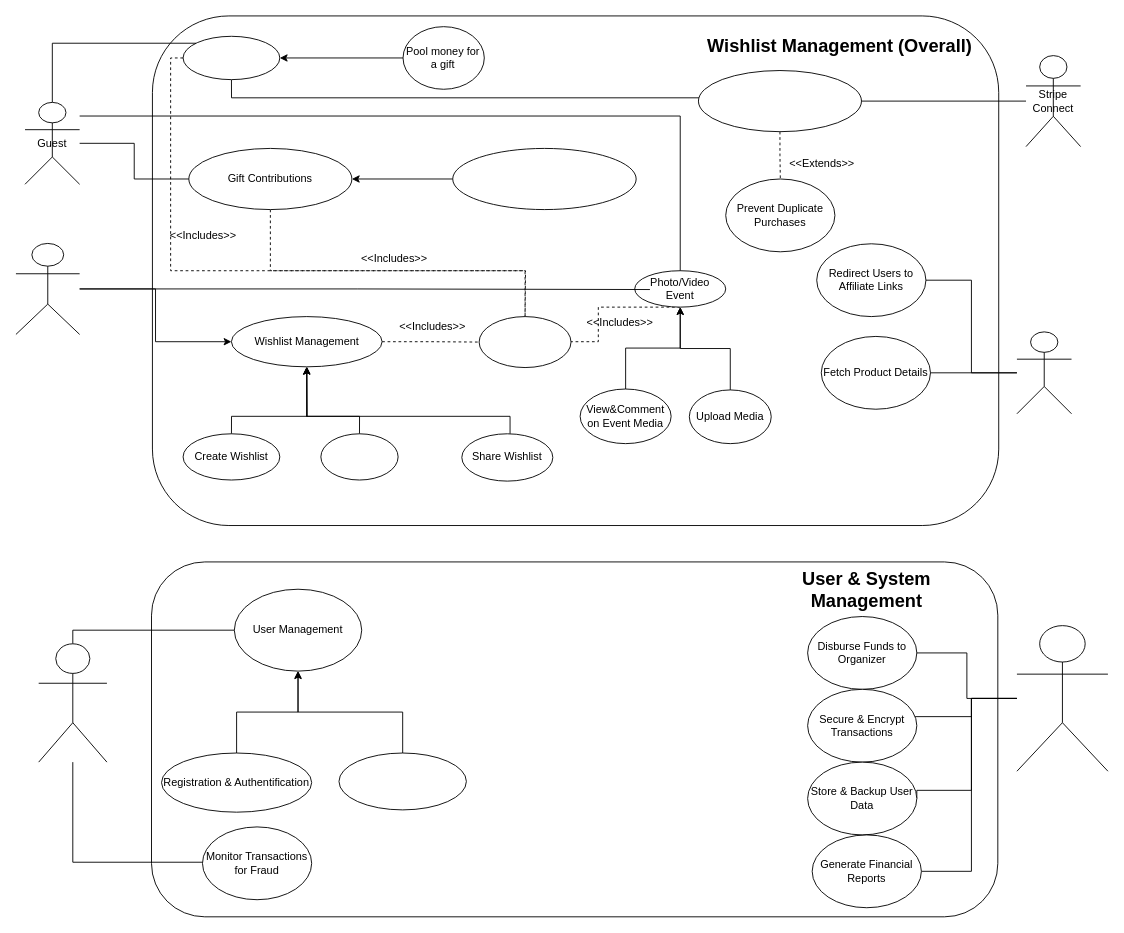
Some shapes in this 1124 by 933 pixel diagram are drawn without their labels. Each missing label, with the centre of its shape:
"Administrator" goes at (72,702).
"Affiliate Programs" goes at (1044,372).
"Cash Gift Contribution" goes at (544,179).
"Edit or Remove Wishlist" goes at (359,456).
"Event Organizer" goes at (47,288).
"Login" goes at (524,342).
"Manage Roles & Permissions" goes at (402,781).
"Payment Processing" goes at (779,101).
"System" goes at (1062,698).
"Tranzactions" goes at (231,57).
